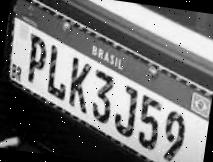placa_mercosul: (8, 0, 212, 162)
